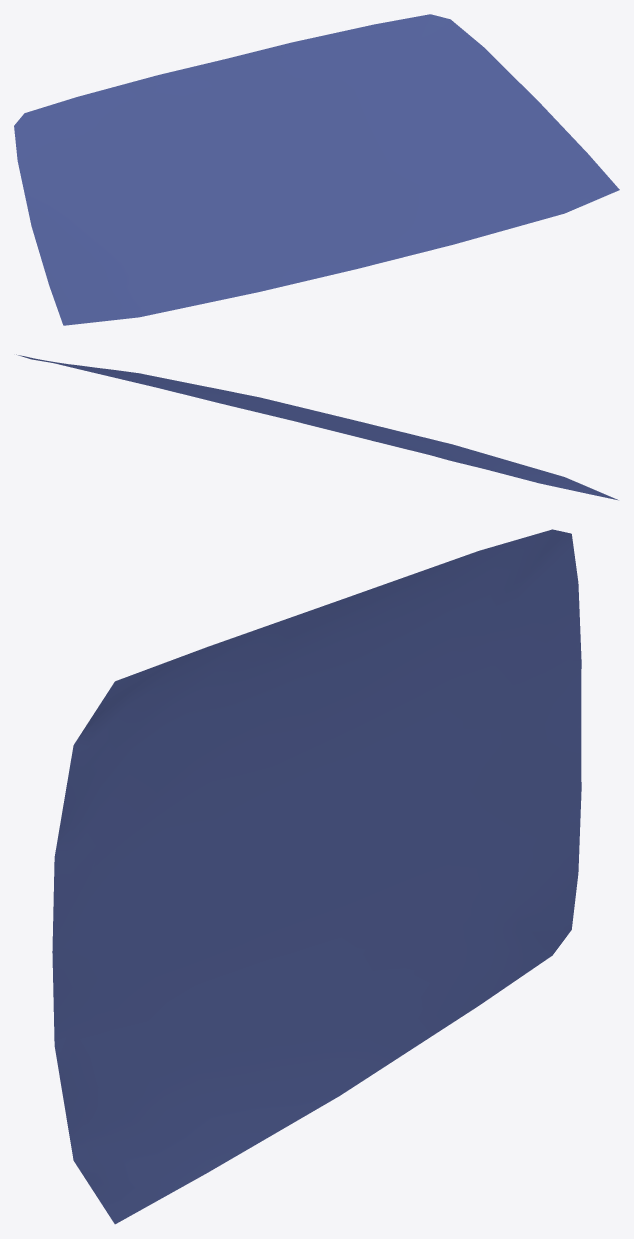
Rendered from Muscle_2_Glass_B_Tesselated.fbx.
3 renders of one model, top to bottom at view 1: azimuth 30°, elevation 25°; view 2: azimuth 150°, elevation 25°; view 3: azimuth 270°, elevation 25°, orthographic. The views are drawn at different scales.
Visible parts, largest first — view 1: Muscle_2_Glass_B_Tesselated; view 2: Muscle_2_Glass_B_Tesselated; view 3: Muscle_2_Glass_B_Tesselated.
Part boxes in pixels (<box>): Muscle_2_Glass_B_Tesselated: <box>14,14,619,325</box>; Muscle_2_Glass_B_Tesselated: <box>16,354,618,500</box>; Muscle_2_Glass_B_Tesselated: <box>52,529,581,1224</box>.
Size of the model in its own units: 106 by 20.74 by 43.7.
